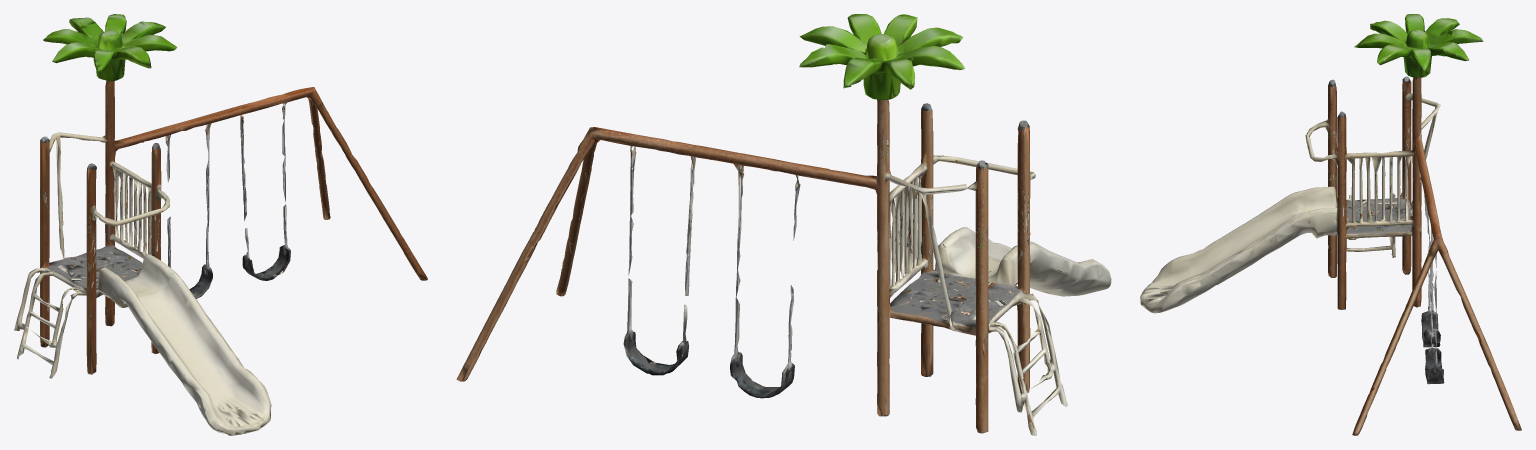
The model's file is swings.glb.
3 views of the same model, side by side, from view 1: azimuth 30°, elevation 25°; view 2: azimuth 150°, elevation 25°; view 3: azimuth 270°, elevation 25° (orthographic). The views are drawn at different scales.
Visible parts, largest first — view 1: prop; view 2: prop; view 3: prop.
Boxes of the visible parts, x1,y1,x2,y2 form: prop: [14, 14, 427, 435]; prop: [456, 14, 1111, 435]; prop: [1140, 14, 1521, 435].
Bounding box in the file's own units: 1.4 × 1 × 1.26.
Materials: 1 (1 with a texture image).
